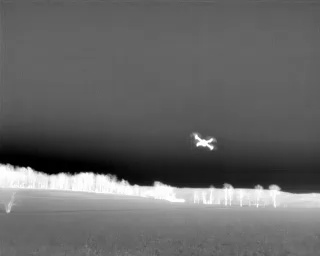DRONE: (187, 128, 221, 156)
